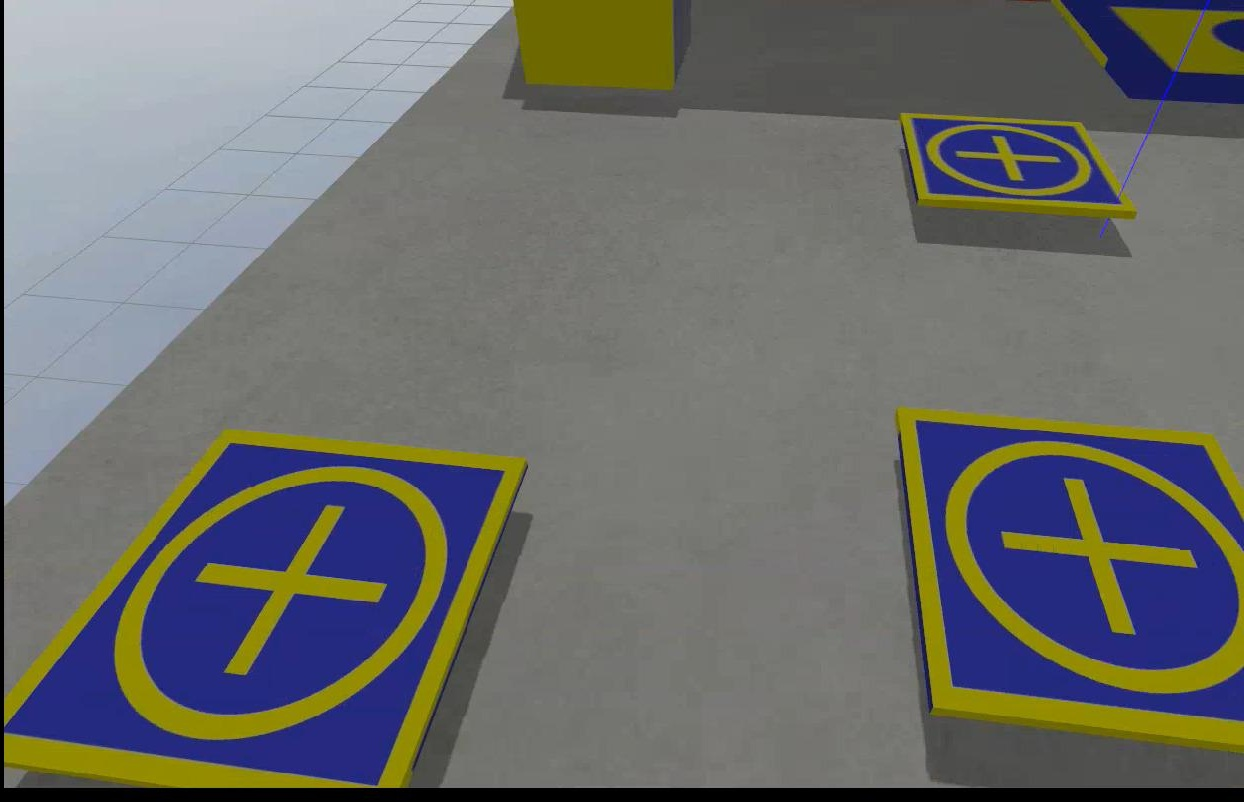large_base: (1045, 1, 1242, 102)
small_base: (0, 424, 529, 793), (885, 405, 1242, 753), (899, 104, 1133, 214)
